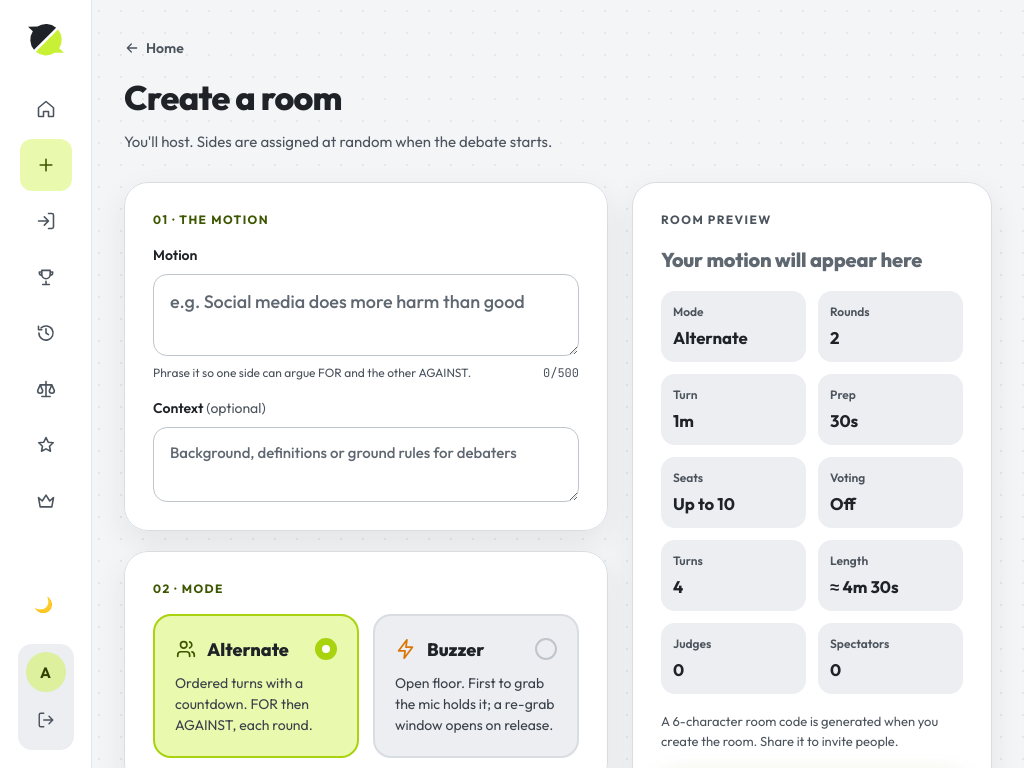
Test case: CreateRoom › debate mode selection › clicking Buzzer as Pro user selects it
Step 1. Click the radio button labelled "Buzzer" → (476, 686), box [373,614,579,758]
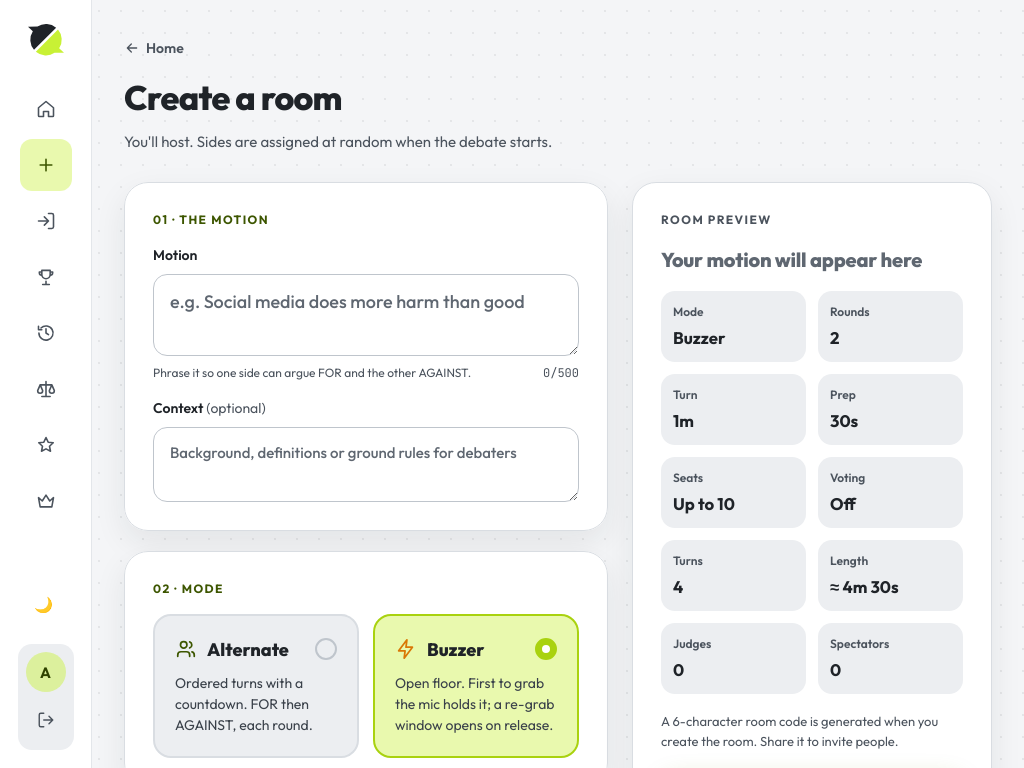
Expected: the text "Buzzer" is shown, [673,326,725,348]
